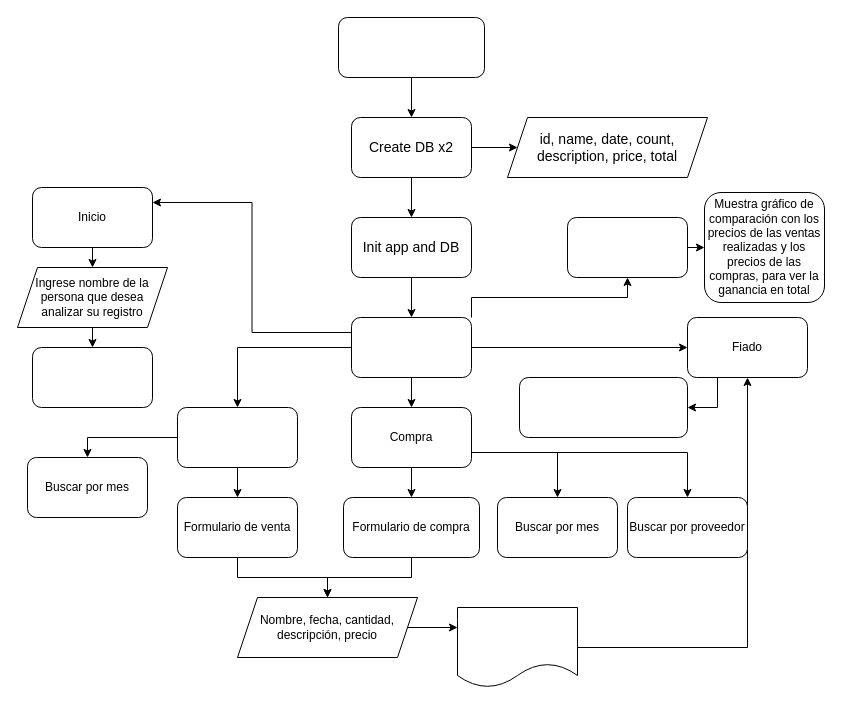
The diagram is 842 pixels wide and 705 high, and some of its shapes have lost their labels. The centre of each missing label's shape, as x and y in pixels:
"El check fiado está activado?" goes at (517,647).
"Mostrar todos los registros de la persona indicada" goes at (92,377).
"Muestra registros en deuda" goes at (603,407).
"Resumen" goes at (627,247).
"Templates" goes at (411,347).
"Tienda Lissa DB" goes at (411,47).
"Venta" goes at (237,437).
